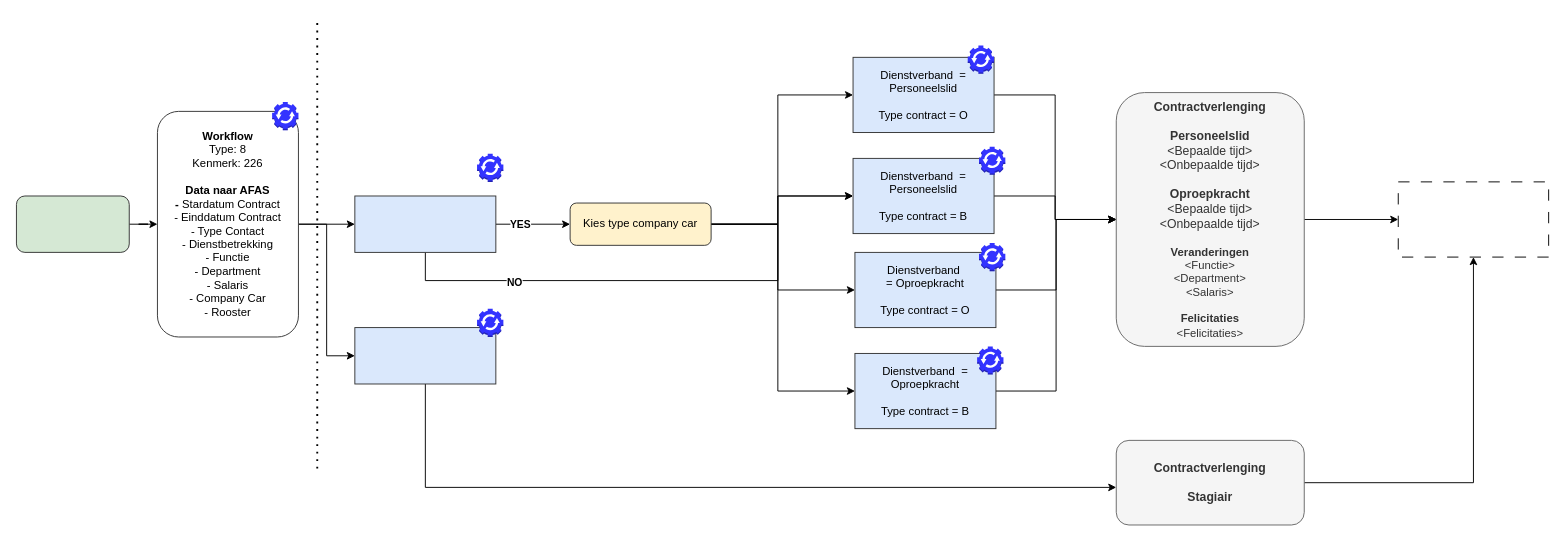
This 1565x541 diagram has some shape labels left out. The shapes that lost their labels are listed below. From the top down, each one's centre as x and y in pixels, then its label:
(x=72, y=223): Contractverlenging
(x=425, y=223): Company Car
(x=1473, y=219): Controles en ondertekenen
(x=425, y=355): Dienstverband = Stagiair
